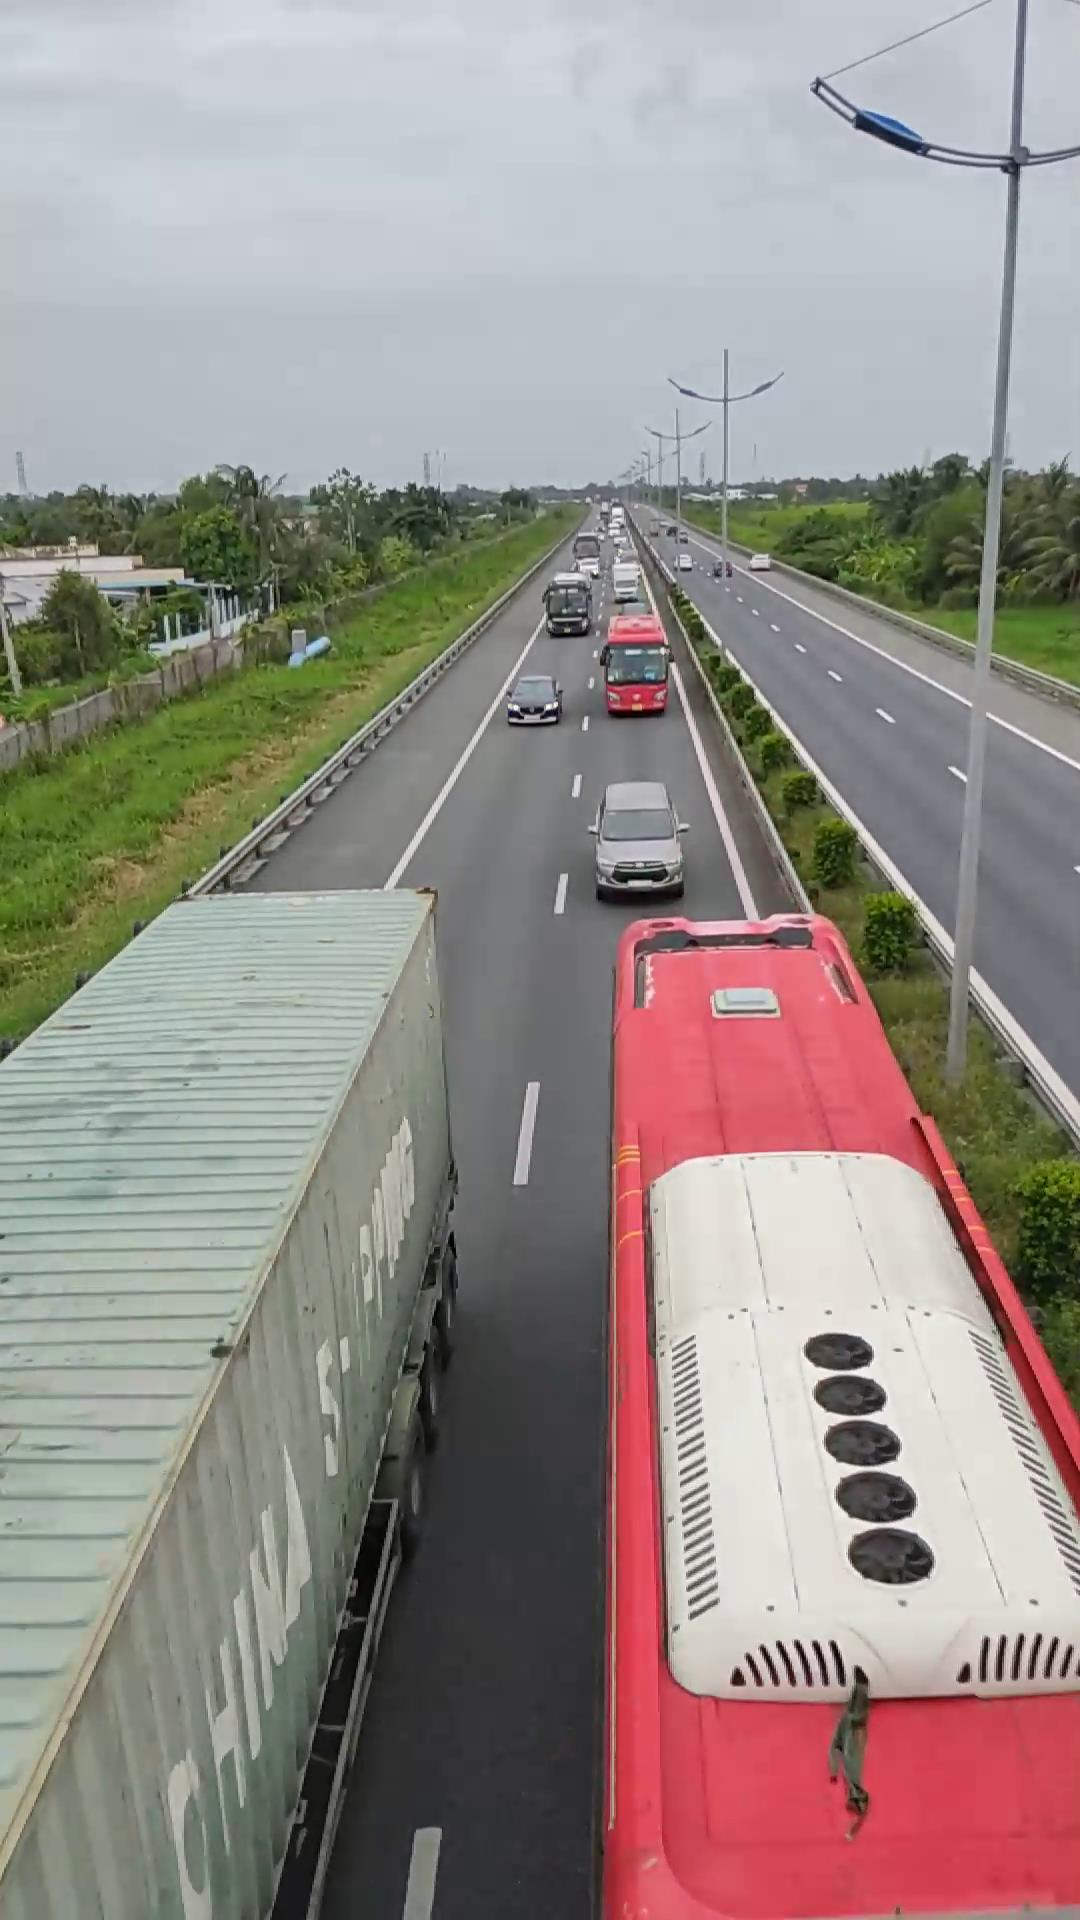bus: (601, 904, 1071, 1913)
car: (586, 780, 687, 902)
container: (0, 882, 467, 1918)
